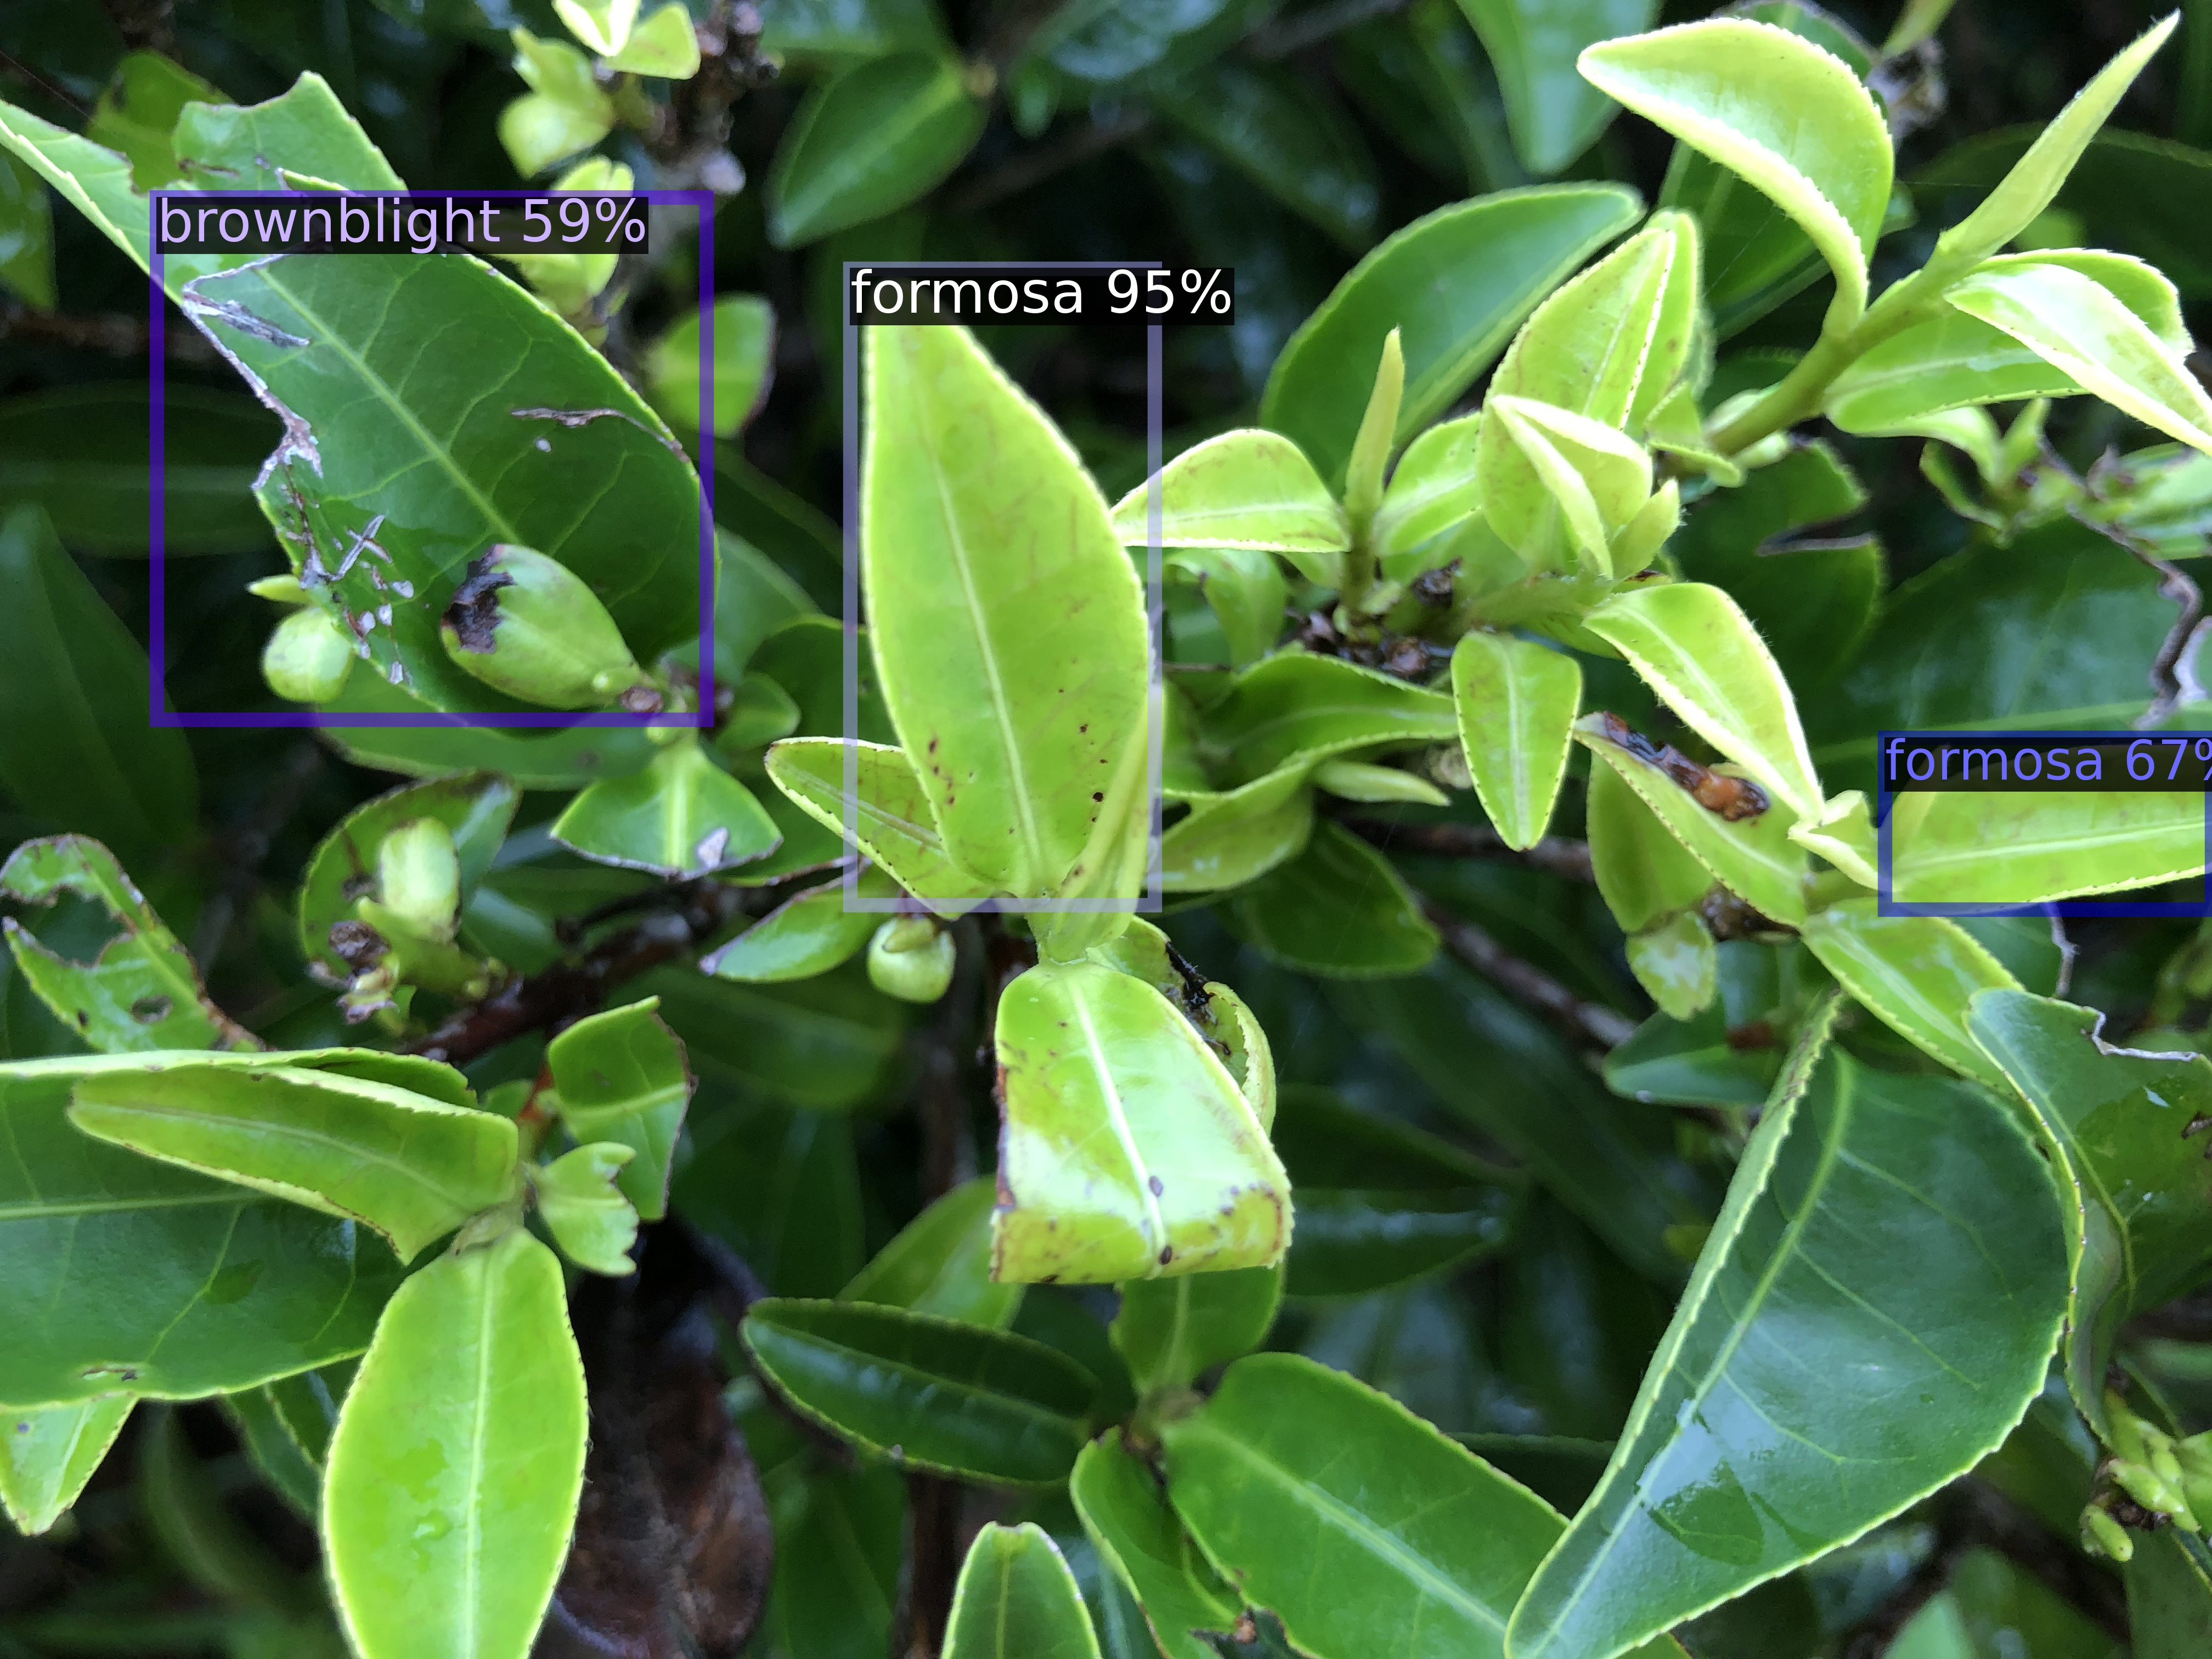brownblight: (157, 197, 707, 720)
formosa: (850, 268, 1155, 904), (1885, 737, 2212, 910)
